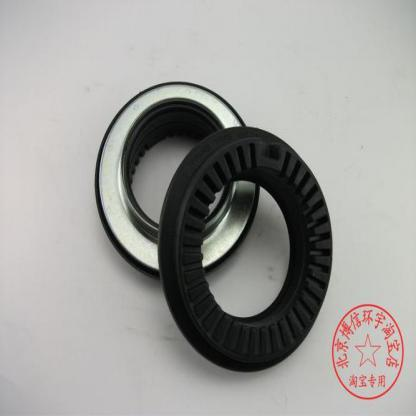FOD: (91, 82, 334, 388)
